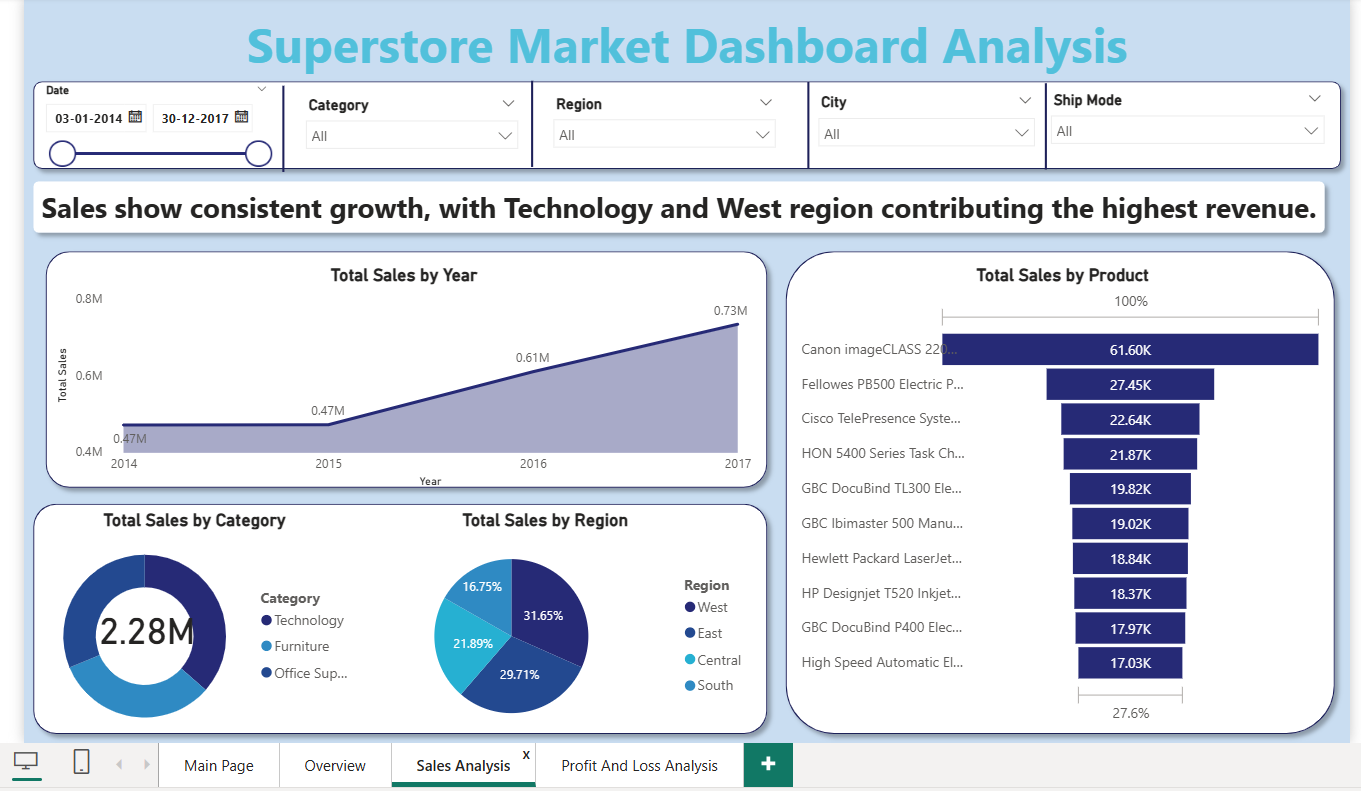

The page's visual inventory and layout, read from the dashboard file:
{"tool":"powerbi","page":{"name":"Sales Analysis","canvas":[1280,720],"ordinal":2},"visuals":[{"type":"shape","box":[0,0,1280.3,89.2],"z":0},{"type":"shape","box":[0,72.4,1280,102.5],"z":1000},{"type":"shape","box":[0,480.2,726.3,240.1],"z":2000},{"type":"slicer","fields":{"Values":["Date_Table.Date"]},"box":[8.2,78.2,238.8,90.6],"z":3000},{"type":"shape","box":[12.1,236.5,714.2,246.1],"z":4000},{"type":"shape","box":[726.3,236.5,547.7,483.8],"z":5000},{"type":"slicer","fields":{"Values":["final_output.Category"]},"box":[262.1,90.6,225,67.2],"z":6000},{"type":"slicer","fields":{"Values":["final_output.Region"]},"box":[500.9,89.2,234.6,64.5],"z":7000},{"type":"slicer","fields":{"Values":["final_output.City"]},"box":[756.1,87.8,229.2,65.9],"z":8000},{"type":"slicer","fields":{"Values":["final_output.Ship Mode"]},"box":[981.1,85.1,284,68.6],"z":9000},{"type":"funnel","title":"Total Sales by Product","fields":{"Y":["Date_Table.Total Sales"],"Category":["final_output.Product Name"]},"box":[745.6,258.2,513.9,447.6],"z":10000},{"type":"donutChart","fields":{"Y":["Date_Table.Total Sales"],"Category":["final_output.Category"]},"box":[0,494.6,329.4,225.6],"z":11000},{"type":"cardVisual","fields":{"Data":["Date_Table.Total Sales"]},"box":[55.5,494.6,219.6,225.6],"z":12000},{"type":"pieChart","fields":{"Y":["Date_Table.Total Sales"],"Category":["final_output.Region"]},"box":[299.2,494.6,407.8,225.6],"z":13000},{"type":"areaChart","fields":{"Y":["Date_Table.Total Sales"],"Category":["Date_Table.Year"]},"box":[26.5,258.2,680.4,220.8],"z":14000},{"type":"shape","box":[0,168.9,1264.3,67.6],"z":15000},{"type":"shape","box":[100.1,85.7,300.4,83.2],"z":15001},{"type":"shape","box":[340.2,80.8,300.4,83.2],"z":15002},{"type":"shape","box":[606.8,82,300.4,83.2],"z":15003},{"type":"shape","box":[836.1,83.2,300.4,83.2],"z":15004}]}

Visuals, with their boxes on the page's 1280x720 design canvas (x1, y1, x2, y2). These are canvas units, not pixel positions in the 1361x791 screenshot, which may show the page scaled, cropped or inside an application window:
shape: box=[0, 0, 1280, 89]
shape: box=[0, 72, 1280, 175]
shape: box=[0, 480, 726, 720]
slicer - Date_Table.Date: box=[8, 78, 247, 169]
shape: box=[12, 236, 726, 483]
shape: box=[726, 236, 1274, 720]
slicer - final_output.Category: box=[262, 91, 487, 158]
slicer - final_output.Region: box=[501, 89, 736, 154]
slicer - final_output.City: box=[756, 88, 985, 154]
slicer - final_output.Ship Mode: box=[981, 85, 1265, 154]
"Total Sales by Product" funnel: box=[746, 258, 1260, 706]
donutChart - Date_Table.Total Sales x final_output.Category: box=[0, 495, 329, 720]
cardVisual - Date_Table.Total Sales: box=[56, 495, 275, 720]
pieChart - Date_Table.Total Sales x final_output.Region: box=[299, 495, 707, 720]
areaChart - Date_Table.Total Sales x Date_Table.Year: box=[26, 258, 707, 479]
shape: box=[0, 169, 1264, 236]
shape: box=[100, 86, 400, 169]
shape: box=[340, 81, 641, 164]
shape: box=[607, 82, 907, 165]
shape: box=[836, 83, 1136, 166]
